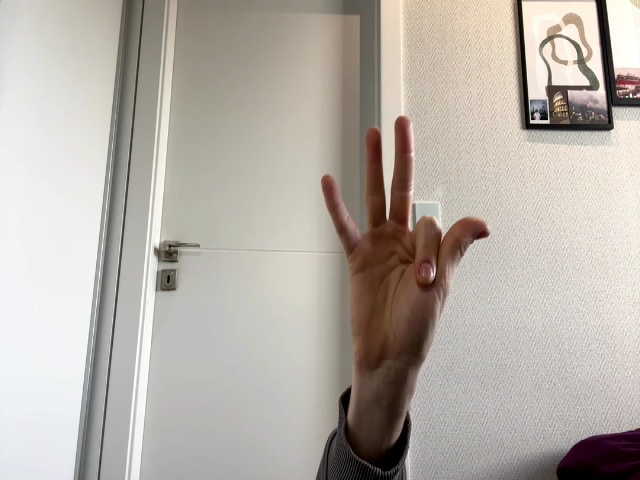F: (323, 117, 490, 372)
